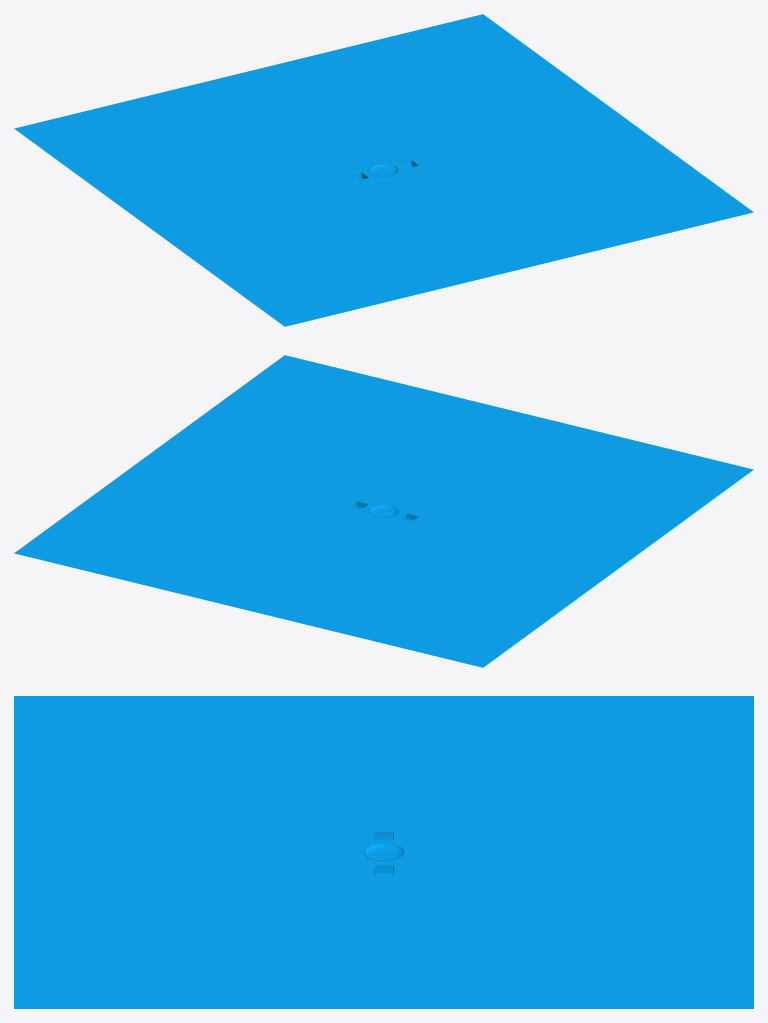
Rendered from interface-base-2.fbx.
3 views of the same model, one above another, from view 1: azimuth 30°, elevation 25°; view 2: azimuth 150°, elevation 25°; view 3: azimuth 270°, elevation 25° (orthographic). The views are drawn at different scales.
Visible parts, largest first — view 1: Base-dip; view 2: Base-dip; view 3: Base-dip.
Part boxes in pixels (x1=…): Base-dip: x1=14, y1=14, x2=753, y2=326; Base-dip: x1=14, y1=355, x2=753, y2=667; Base-dip: x1=14, y1=696, x2=753, y2=1008.
Bounding box in the file's own units: 600 × 6.31 × 600.
